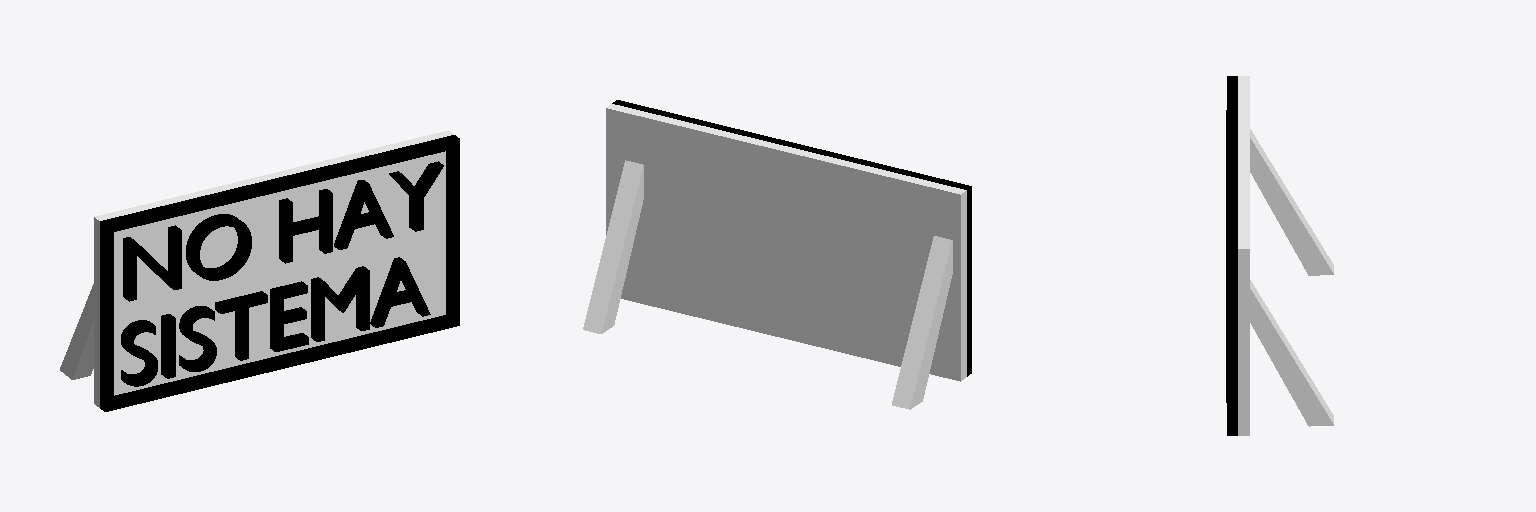
3 renders of one model, left to right at view 1: azimuth 30°, elevation 25°; view 2: azimuth 150°, elevation 25°; view 3: azimuth 270°, elevation 25°, orthographic.
Parts seen in each view (by area): view 1: Plane, Text, Plane_001; view 2: Plane, Plane_001; view 3: Plane, Plane_001.
Part boxes in pixels (bbox=[...]): Plane: bbox=[60, 130, 453, 407]; Text: bbox=[121, 161, 443, 386]; Plane_001: bbox=[100, 135, 459, 411]; Plane: bbox=[583, 104, 966, 409]; Plane_001: bbox=[612, 100, 971, 376]; Plane: bbox=[1238, 76, 1333, 435]; Plane_001: bbox=[1227, 76, 1237, 435].
Size of the model in its own units: 3.75 by 1.89 by 0.9981.
Materials: 2 (2 with a texture image).